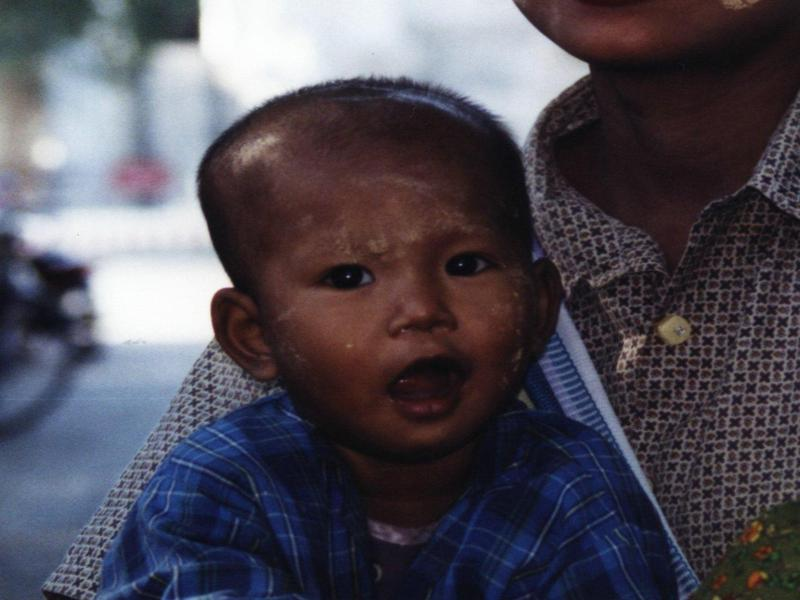person: (43, 1, 800, 600), (100, 71, 665, 600)
